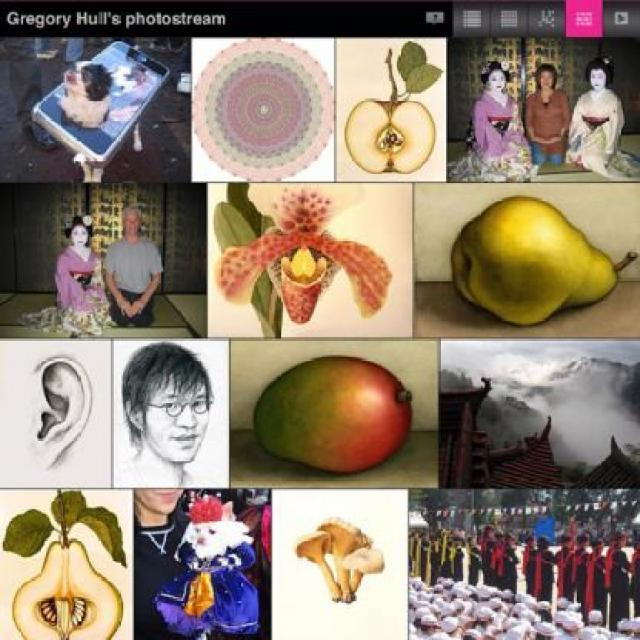Mango: (261, 358, 422, 480)
